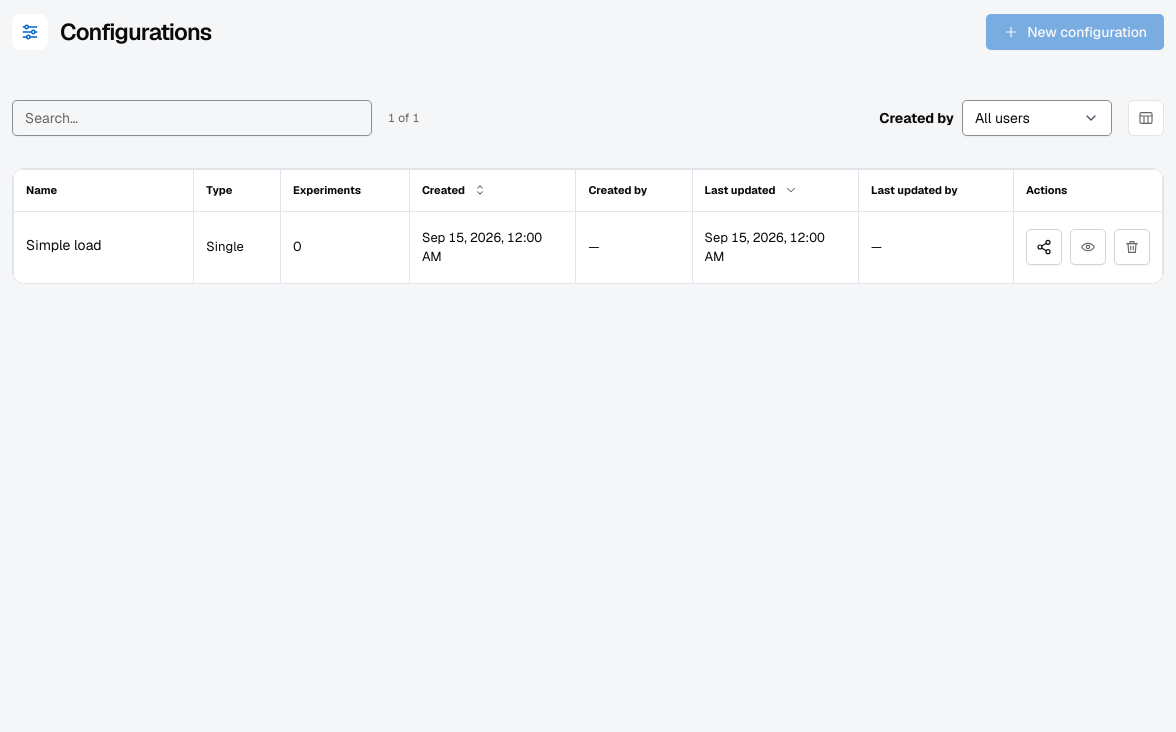
Test case: experiment configuration actions › opens configuration editing as a page with the saved values
Click the button named "View Simple load details": (1088, 247) [1070,229,1106,265]
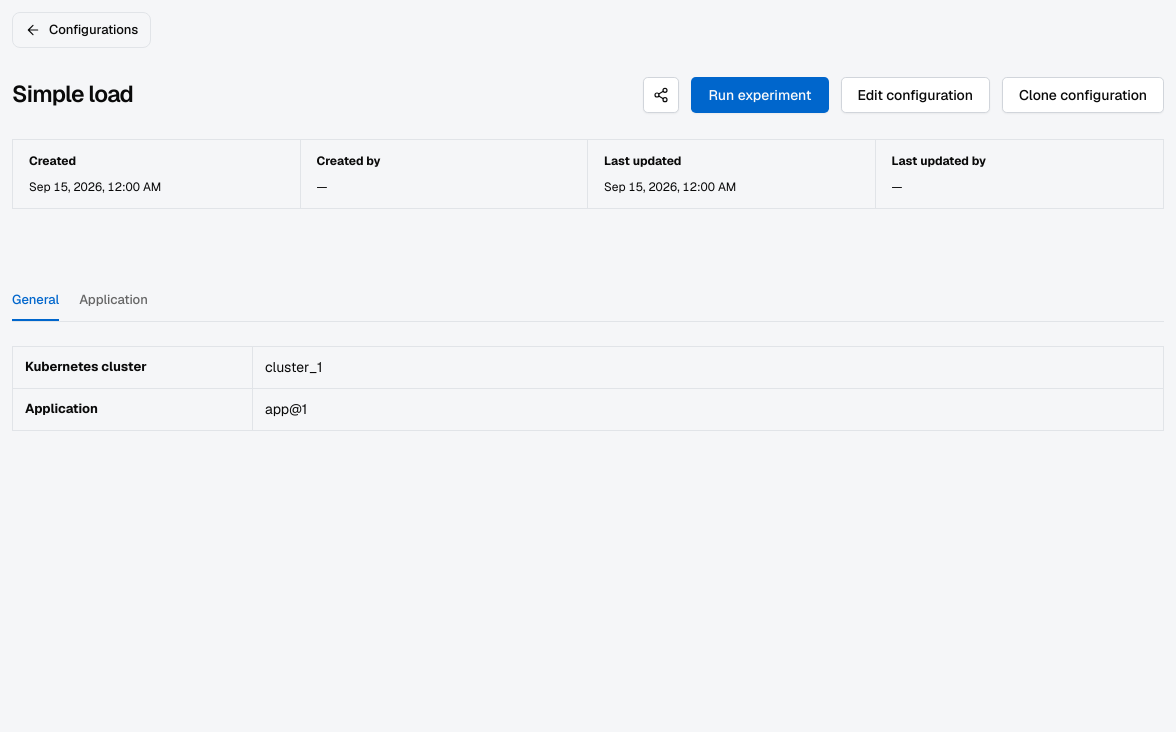
Click the button "Edit configuration": (915, 95) [841,77,990,113]
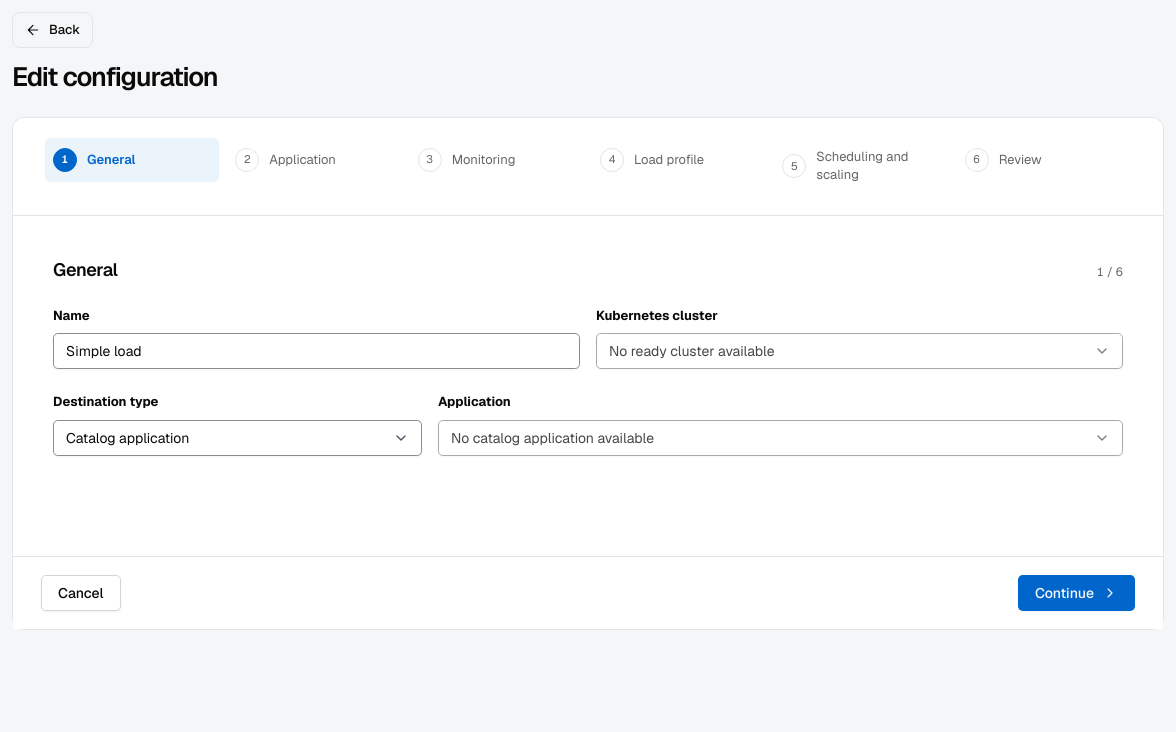
Expected: the heading "Edit configuration" is shown, [12,59,218,94]
Expected: the field labelled "Name" holds "Simple load", [53,333,580,369]
Expected: the navigation bar named "Setup steps" is shown, [13,118,1163,216]
